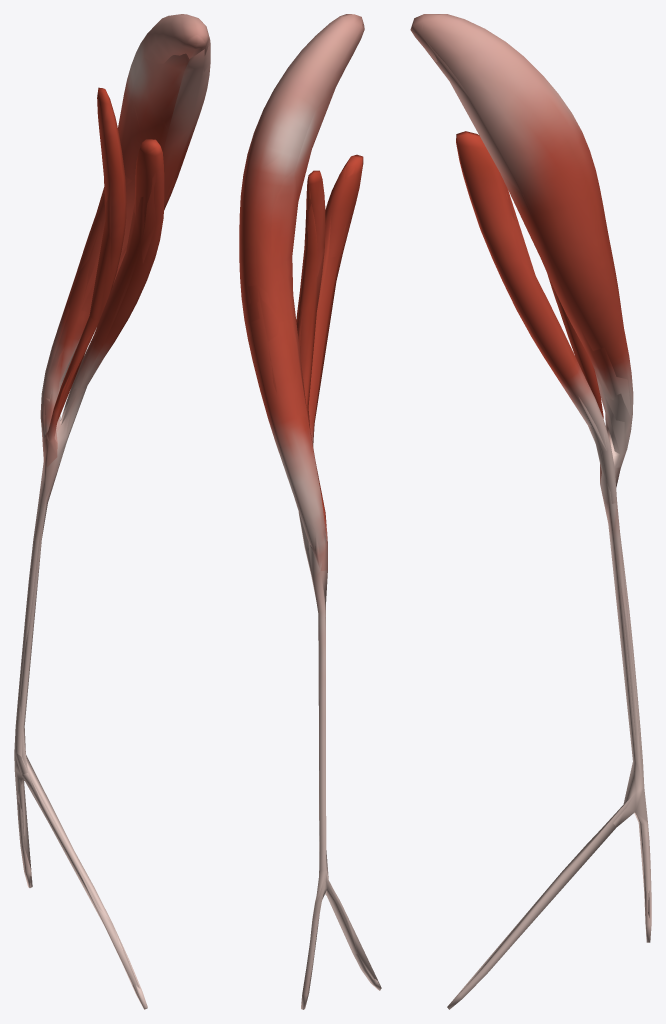
The model's file is R Flexor Carpi Ulnaris.fbx.
3 views of the same model, side by side, from view 1: azimuth 30°, elevation 25°; view 2: azimuth 150°, elevation 25°; view 3: azimuth 270°, elevation 25° (orthographic). The views are drawn at different scales.
Visible parts, largest first — view 1: R Flexor Carpi Ulnaris low, R Flexor Carpi Ulnaris; view 2: R Flexor Carpi Ulnaris, R Flexor Carpi Ulnaris low; view 3: R Flexor Carpi Ulnaris, R Flexor Carpi Ulnaris low.
Boxes of the visible parts, box(x1,y1,x2,y2) form: R Flexor Carpi Ulnaris low: box(14, 21, 210, 1005); R Flexor Carpi Ulnaris: box(14, 14, 210, 1009); R Flexor Carpi Ulnaris: box(239, 14, 381, 1009); R Flexor Carpi Ulnaris low: box(248, 16, 380, 1006); R Flexor Carpi Ulnaris: box(410, 14, 651, 1009); R Flexor Carpi Ulnaris low: box(411, 17, 649, 1004).
Size of the model in its own units: 2.7 by 19.92 by 4.28.
